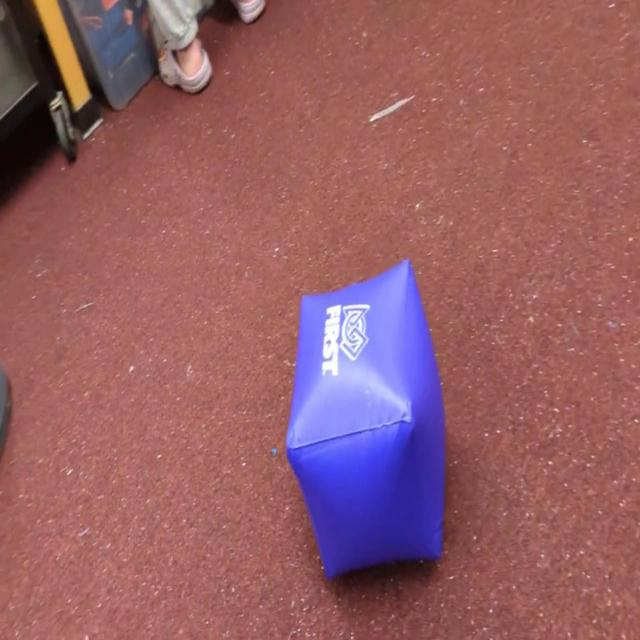frc_cube: (284, 257, 446, 588)
